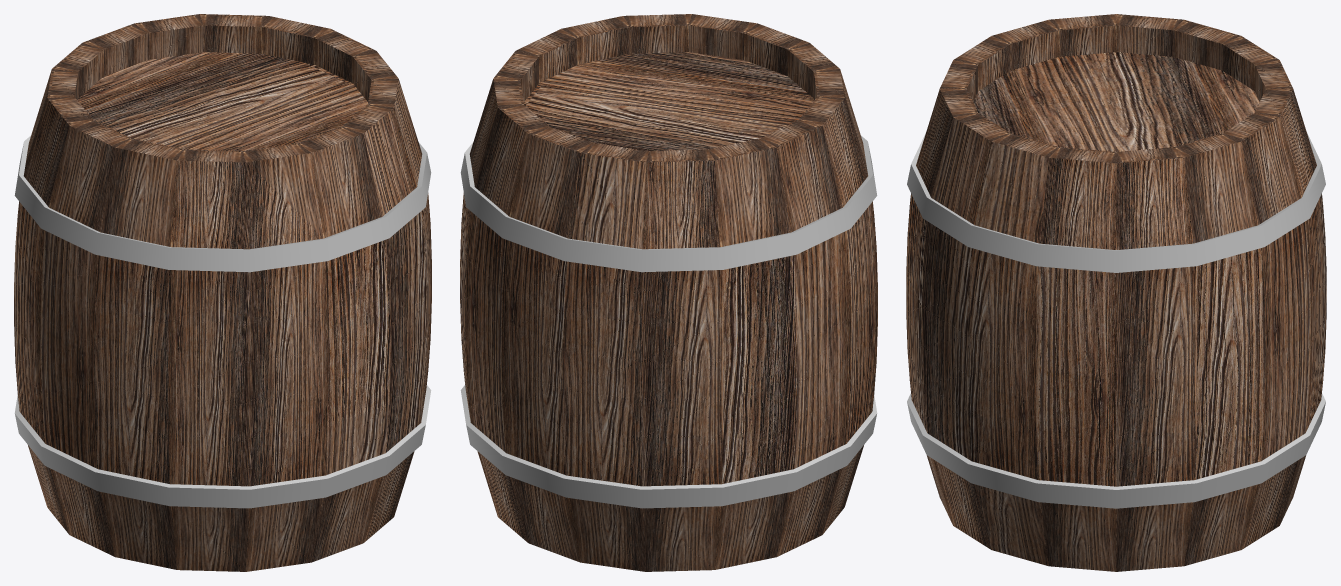
Rendered from Barrel.glb.
3 renders of one model, left to right at view 1: azimuth 30°, elevation 25°; view 2: azimuth 150°, elevation 25°; view 3: azimuth 270°, elevation 25°, orthographic.
Visible parts, largest first — view 1: Cylinder.003.1; view 2: Cylinder.003.1; view 3: Cylinder.003.1.
Part boxes in pixels (x1,y1,x2,y2): Cylinder.003.1: [14, 14, 431, 571]; Cylinder.003.1: [460, 14, 877, 571]; Cylinder.003.1: [906, 14, 1326, 571].
Size of the model in its own units: 238 by 255 by 238.
2 materials, 1 textured.
